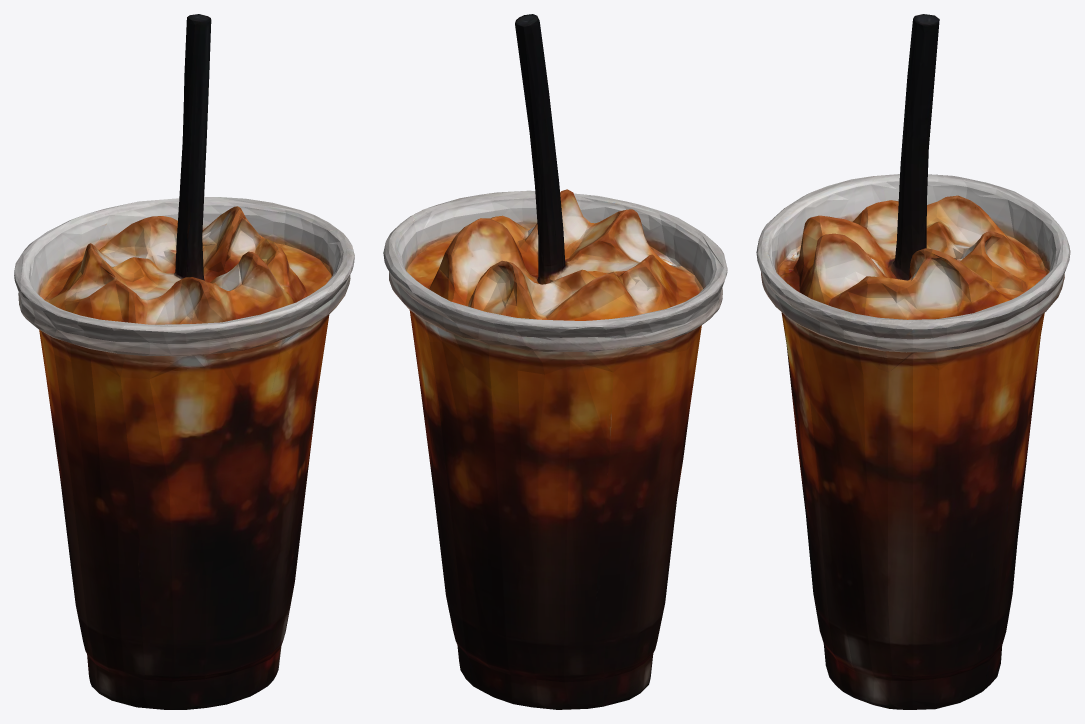
3 renders of one model, left to right at view 1: azimuth 30°, elevation 25°; view 2: azimuth 150°, elevation 25°; view 3: azimuth 270°, elevation 25°, orthographic. The views are drawn at different scales.
Visible parts, largest first — view 1: geometry_0; view 2: geometry_0; view 3: geometry_0.
Part boxes in pixels (x1=…): geometry_0: x1=14, y1=14, x2=354, y2=709; geometry_0: x1=383, y1=14, x2=727, y2=709; geometry_0: x1=756, y1=14, x2=1070, y2=709.
Bounding box in the file's own units: 0.4923 × 0.998 × 0.4295.
Materials: 1 (1 with a texture image).
